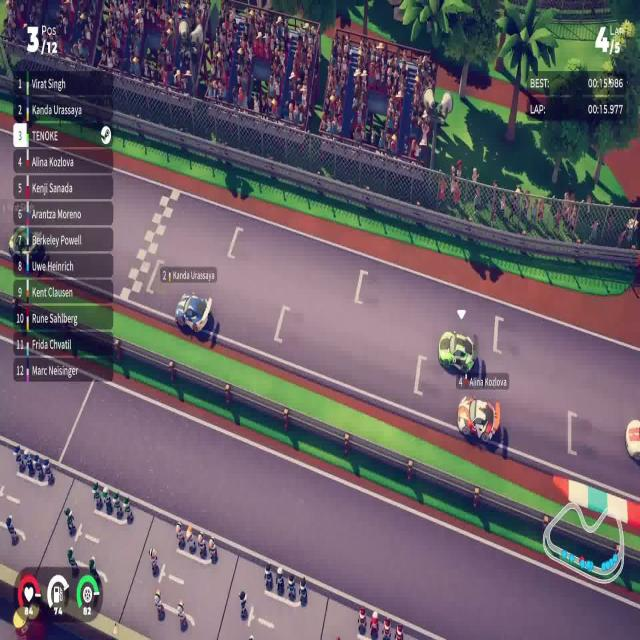car: (456, 393, 501, 444), (437, 329, 476, 374), (174, 291, 213, 335)
